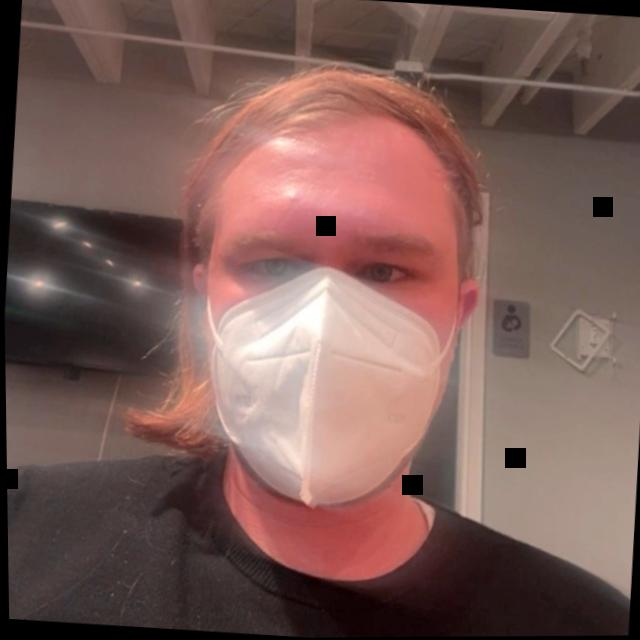Mask: (105, 37, 551, 606)
